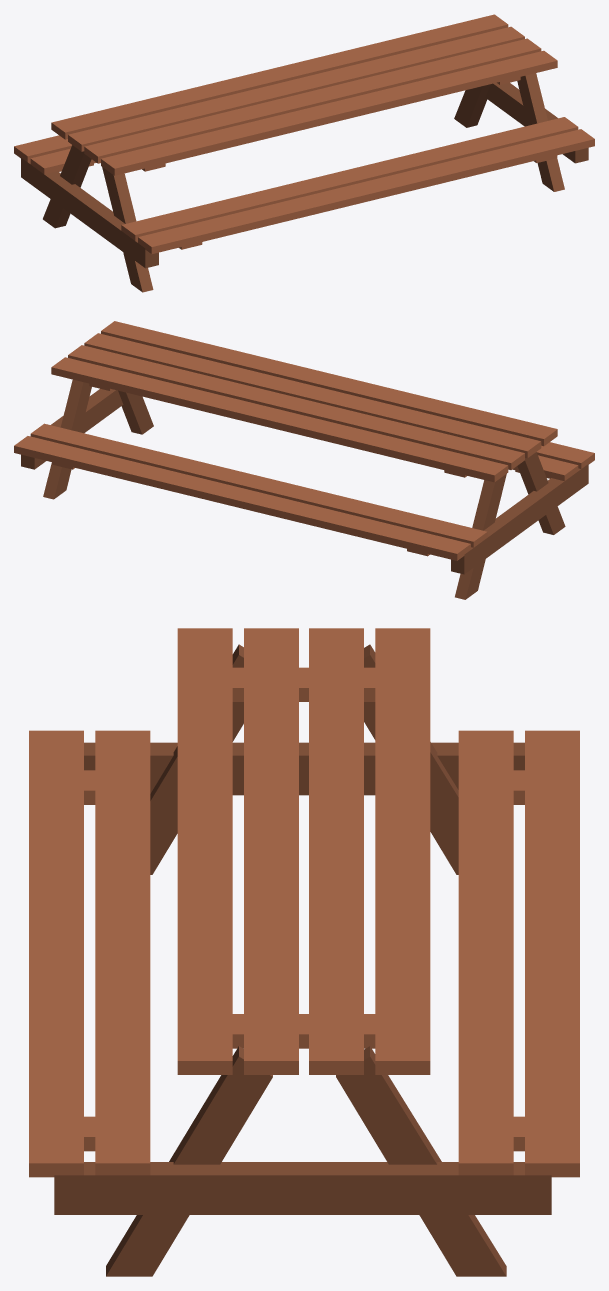
File: Bench_02.fbx
The picture shows the model from 3 angles, top to bottom: view 1: azimuth 30°, elevation 25°; view 2: azimuth 150°, elevation 25°; view 3: azimuth 270°, elevation 25°; orthographic projection. The views are drawn at different scales.
Parts seen in each view (by area): view 1: Bench_02; view 2: Bench_02; view 3: Bench_02.
Boxes of the visible parts, x1,y1,x2,y2 form: Bench_02: (14,14,594,292); Bench_02: (14,321,594,599); Bench_02: (29,628,579,1276).
Size of the model in its own units: 2.45 by 0.5979 by 1.32.
